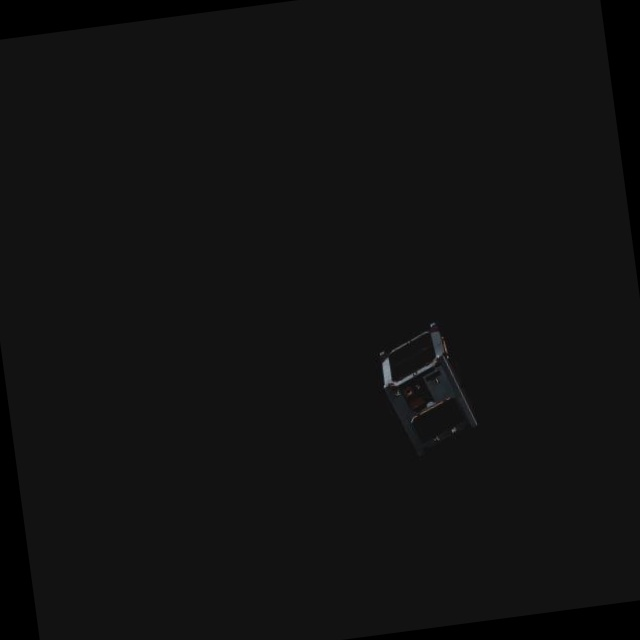satellite: (362, 315, 495, 468)
